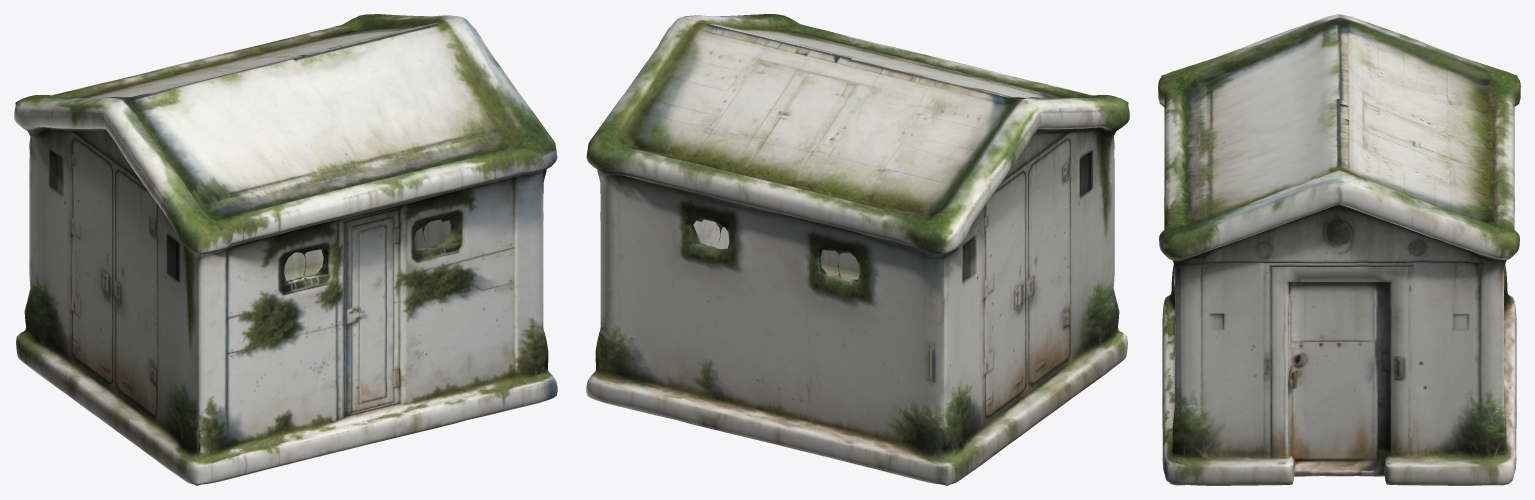
File: a_simple_military_bun_0508164903.glb
3 views of the same model, side by side, from view 1: azimuth 30°, elevation 25°; view 2: azimuth 150°, elevation 25°; view 3: azimuth 270°, elevation 25° (orthographic). The views are drawn at different scales.
Bounding box in the file's own units: 2 × 1.63 × 1.76.
1 material, 1 textured.
